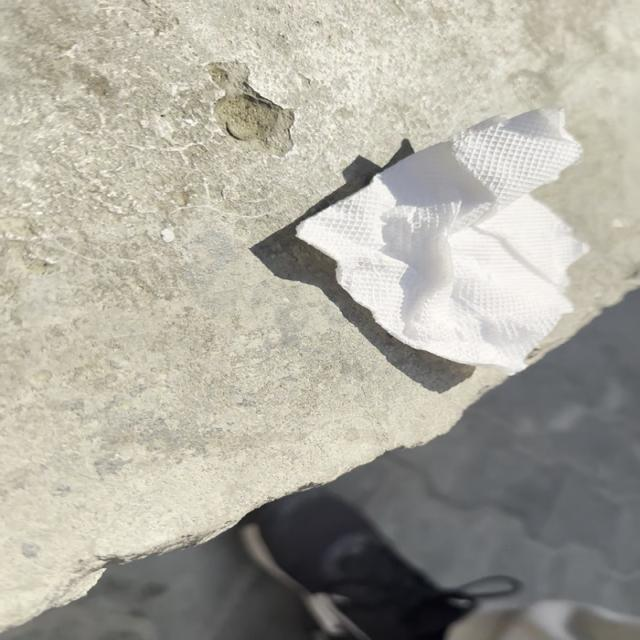tissue: (288, 101, 595, 378)
